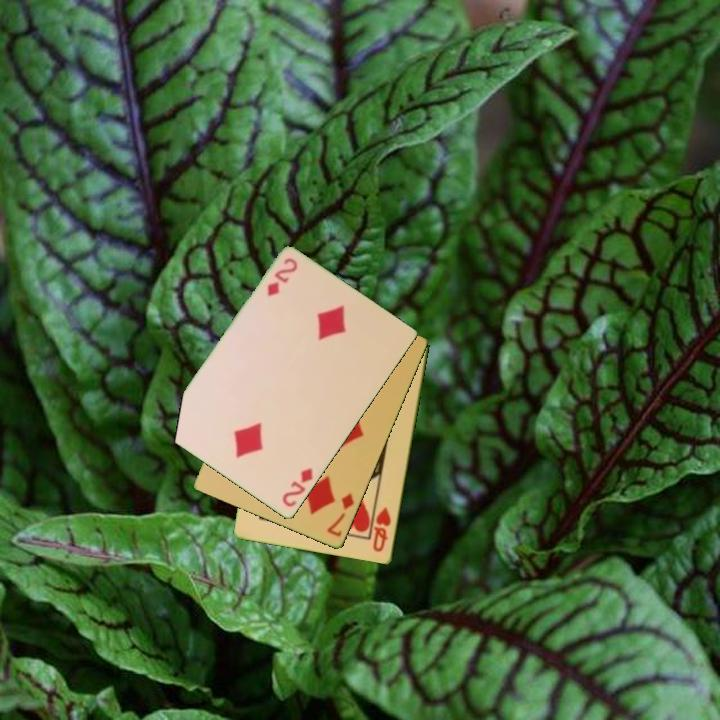2d: (279, 465, 316, 510), (264, 255, 301, 299)
7d: (323, 490, 357, 540)
Qh: (370, 504, 394, 555)
